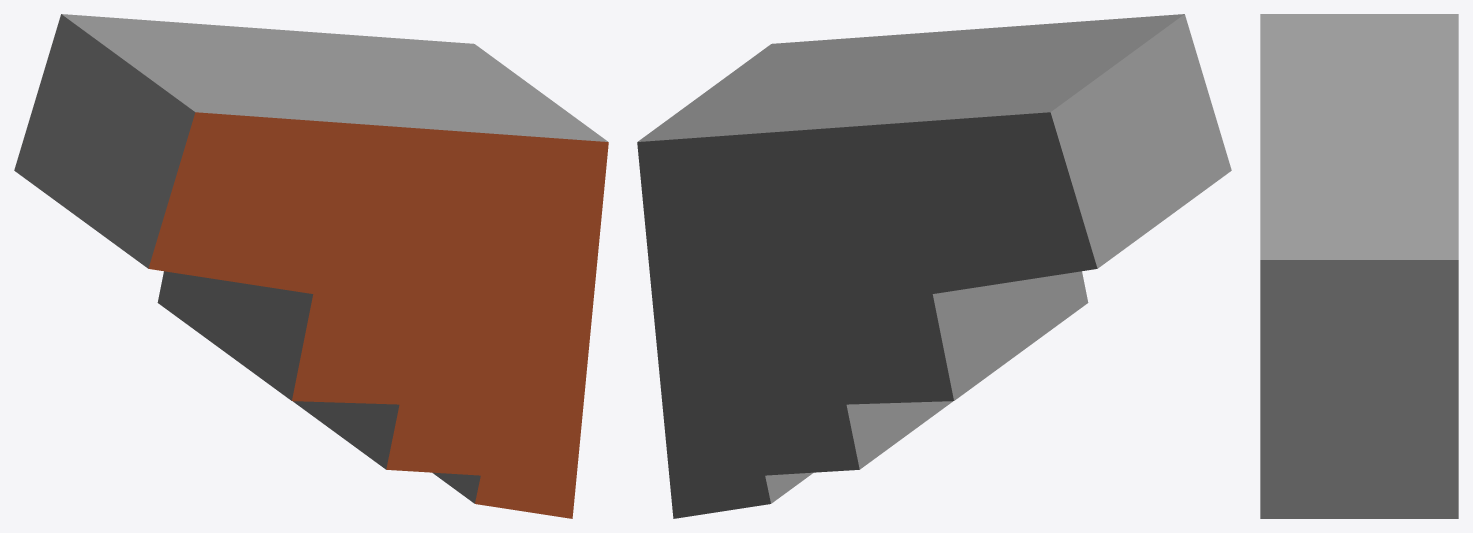
Rendered from construction_3685_assumed_A_Casa_h6m.obj.
3 renders of one model, left to right at view 1: azimuth 30°, elevation 25°; view 2: azimuth 150°, elevation 25°; view 3: azimuth 270°, elevation 25°, orthographic. The views are drawn at different scales.
Parts seen in each view (by area): view 1: construction_3685_assumed_A_Casa; view 2: construction_3685_assumed_A_Casa; view 3: construction_3685_assumed_A_Casa.
Part boxes in pixels (bbox=[...]): construction_3685_assumed_A_Casa: bbox=[14, 14, 608, 518]; construction_3685_assumed_A_Casa: bbox=[637, 14, 1231, 518]; construction_3685_assumed_A_Casa: bbox=[1260, 14, 1458, 518].
Bounding box in the file's own units: 11.88 × 12.3 × 6.
